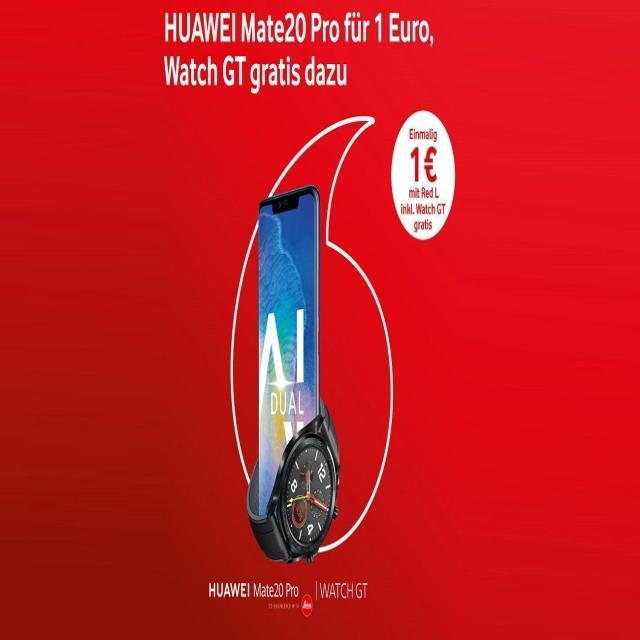smart phone: (255, 182, 348, 435)
watch: (215, 448, 395, 562)
